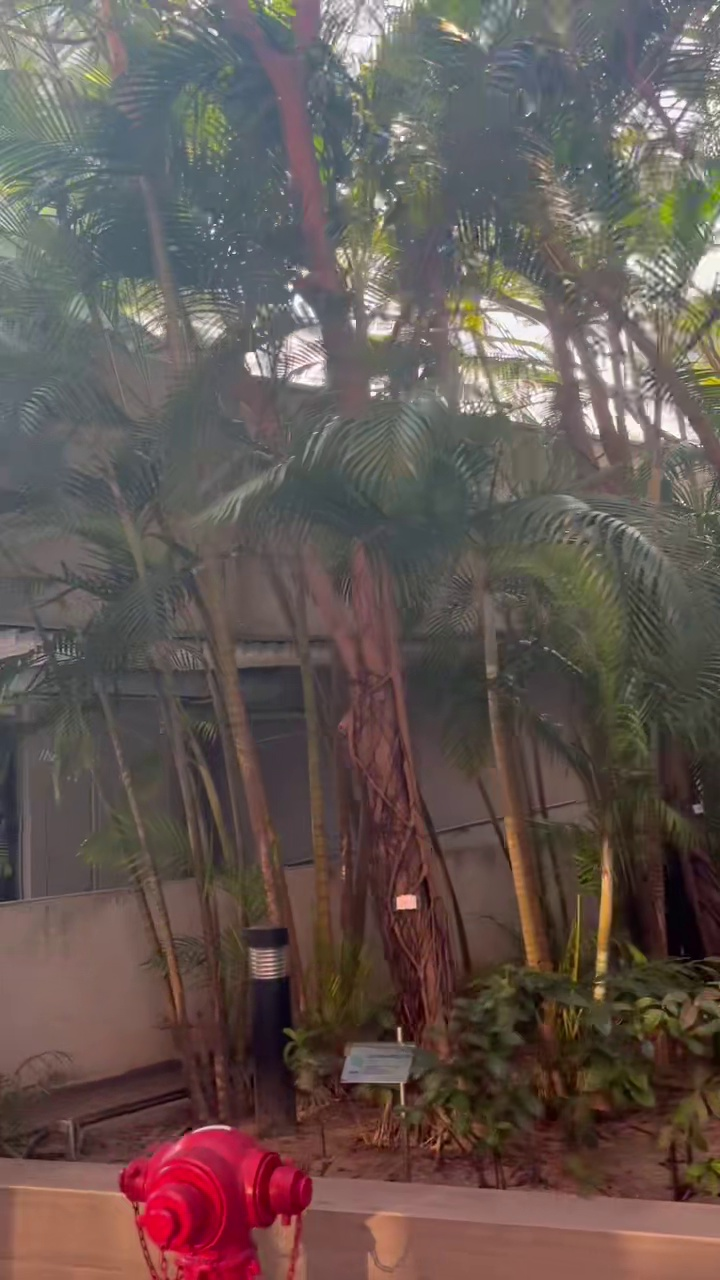Ficus benjamina: (227, 0, 455, 1047)
